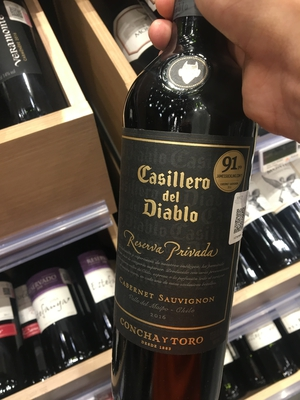casillero del diablo reserva privada cabernet sauvignon: (103, 21, 269, 395)
